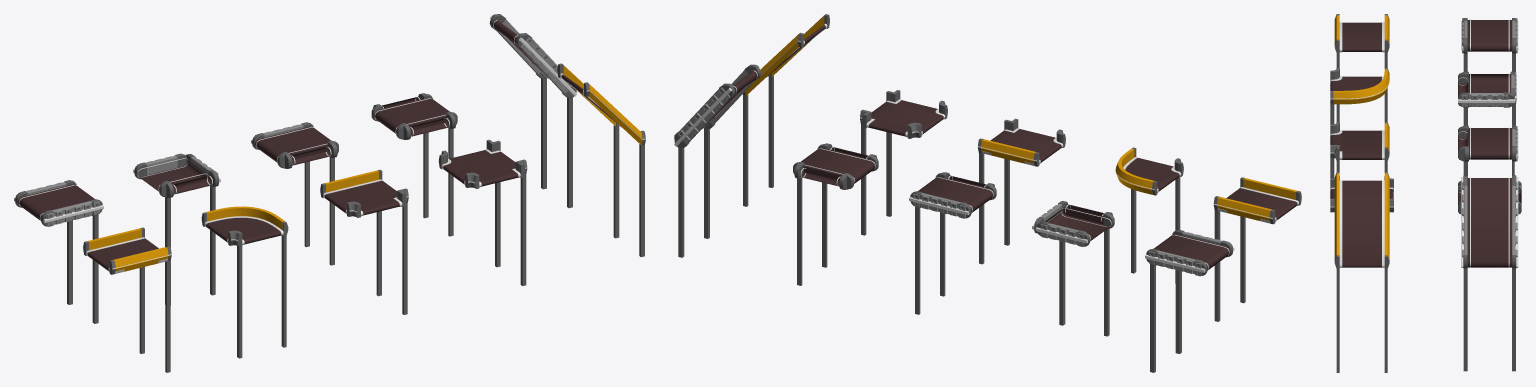
The model's file is beltconveyor.fbx.
The picture shows the model from 3 angles, left to right: view 1: azimuth 30°, elevation 25°; view 2: azimuth 150°, elevation 25°; view 3: azimuth 270°, elevation 25°; orthographic projection. The views are drawn at different scales.
Visible parts, largest first — view 1: 立方体.095, 立方体.079, 立方体.134, 立方体.144, 立方体.073, 立方体.101, 立方体.016, 立方体.102, 立方体.019, 立方体.114, 立方体.096, 立方体.100 (+11 smaller); view 2: 立方体.095, 立方体.144, 立方体.073, 立方体.114, 立方体.102, 立方体.134, 立方体.101, 立方体.107, 立方体.120, 立方体.079, 立方体.145, 立方体.139 (+11 smaller); view 3: 立方体.109, 立方体.099, 立方体.079, 立方体.102, 立方体.134, 立方体.072, 立方体.100, 立方体.114, 立方体.071, 立方体.101, 立方体.122, 立方体.016 (+16 smaller).
Part boxes in pixels (left/top/right/bottom): 立方体.095: left=441, top=149, right=520, bottom=187; 立方体.079: left=323, top=179, right=402, bottom=216; 立方体.134: left=255, top=126, right=331, bottom=162; 立方体.144: left=374, top=98, right=449, bottom=133; 立方体.073: left=83, top=227, right=171, bottom=274; 立方体.101: left=613, top=125, right=644, bottom=257; 立方体.016: left=204, top=216, right=283, bottom=245; 立方体.102: left=18, top=184, right=94, bottom=221; 立方体.019: left=237, top=235, right=286, bottom=358; 立方体.114: left=541, top=78, right=572, bottom=208; 立方体.096: left=495, top=174, right=526, bottom=285; 立方体.100: left=557, top=63, right=645, bottom=145; 立方体.095: left=866, top=99, right=945, bottom=137; 立方体.144: left=801, top=148, right=876, bottom=183; 立方体.073: left=1213, top=177, right=1301, bottom=224; 立方体.114: left=678, top=128, right=709, bottom=257; 立方体.102: left=1154, top=234, right=1230, bottom=270; 立方体.134: left=918, top=177, right=994, bottom=213; 立方体.101: left=743, top=75, right=773, bottom=206; 立方体.107: left=1150, top=264, right=1181, bottom=372; 立方体.120: left=1059, top=228, right=1109, bottom=336; 立方体.079: left=990, top=128, right=1063, bottom=164; 立方体.145: left=797, top=178, right=827, bottom=285; 立方体.139: left=915, top=207, right=945, bottom=314; 立方体.109: left=1467, top=177, right=1511, bottom=267; 立方体.099: left=1339, top=180, right=1384, bottom=267; 立方体.079: left=1330, top=130, right=1384, bottom=159; 立方体.102: left=1467, top=19, right=1511, bottom=51; 立方体.134: left=1467, top=127, right=1511, bottom=159; 立方体.072: left=1339, top=22, right=1384, bottom=52; 立方体.100: left=1334, top=172, right=1389, bottom=268; 立方体.114: left=1463, top=269, right=1515, bottom=371; 立方体.071: left=1330, top=68, right=1389, bottom=104; 立方体.101: left=1336, top=269, right=1387, bottom=372; 立方体.122: left=1468, top=73, right=1510, bottom=92; 立方体.016: left=1330, top=76, right=1383, bottom=90.
Bounding box in the file's own units: 9.01 × 3.01 × 3.
